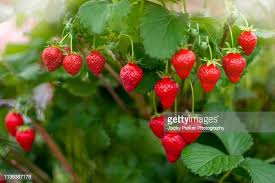ripe: (158, 128, 189, 163), (220, 48, 249, 84), (153, 72, 180, 110), (174, 112, 204, 143), (118, 57, 142, 92), (171, 45, 195, 79), (147, 113, 175, 142), (199, 61, 222, 92), (40, 44, 64, 73), (5, 109, 27, 139), (14, 125, 38, 152), (86, 50, 107, 75), (63, 52, 82, 79), (233, 36, 258, 54)
